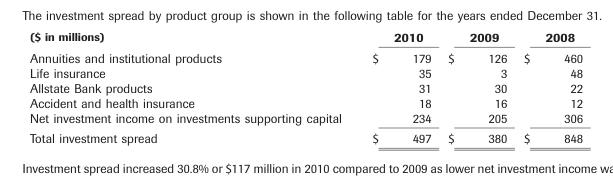table: (29, 29, 582, 145)
table column: (29, 29, 356, 145), (356, 29, 439, 145), (439, 29, 514, 145), (514, 29, 582, 145)
table column header: (29, 29, 582, 47)
table row: (29, 29, 582, 47), (29, 110, 582, 128), (29, 47, 582, 64), (29, 128, 582, 145), (29, 64, 582, 80), (29, 80, 582, 95), (29, 95, 582, 110)
